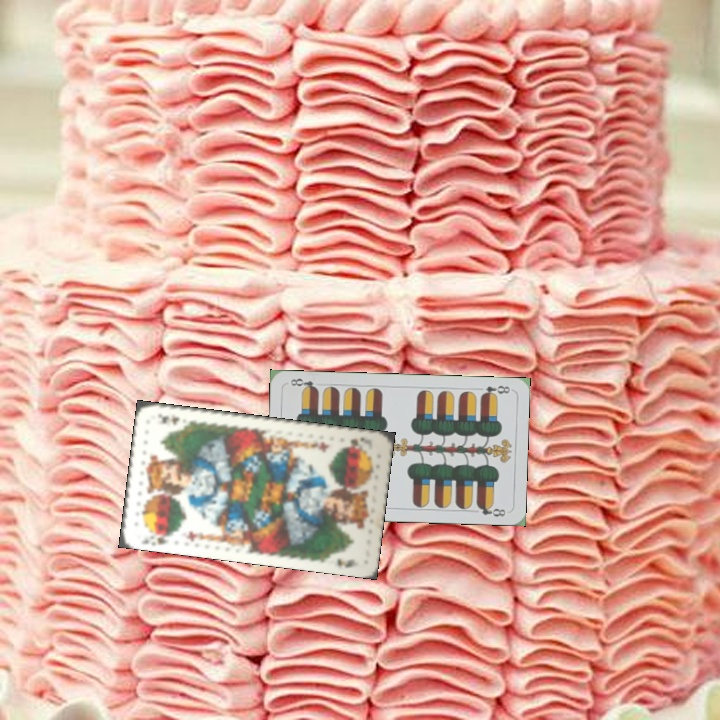E8: (477, 381, 513, 400)
SK: (148, 529, 175, 548), (339, 433, 366, 451)
